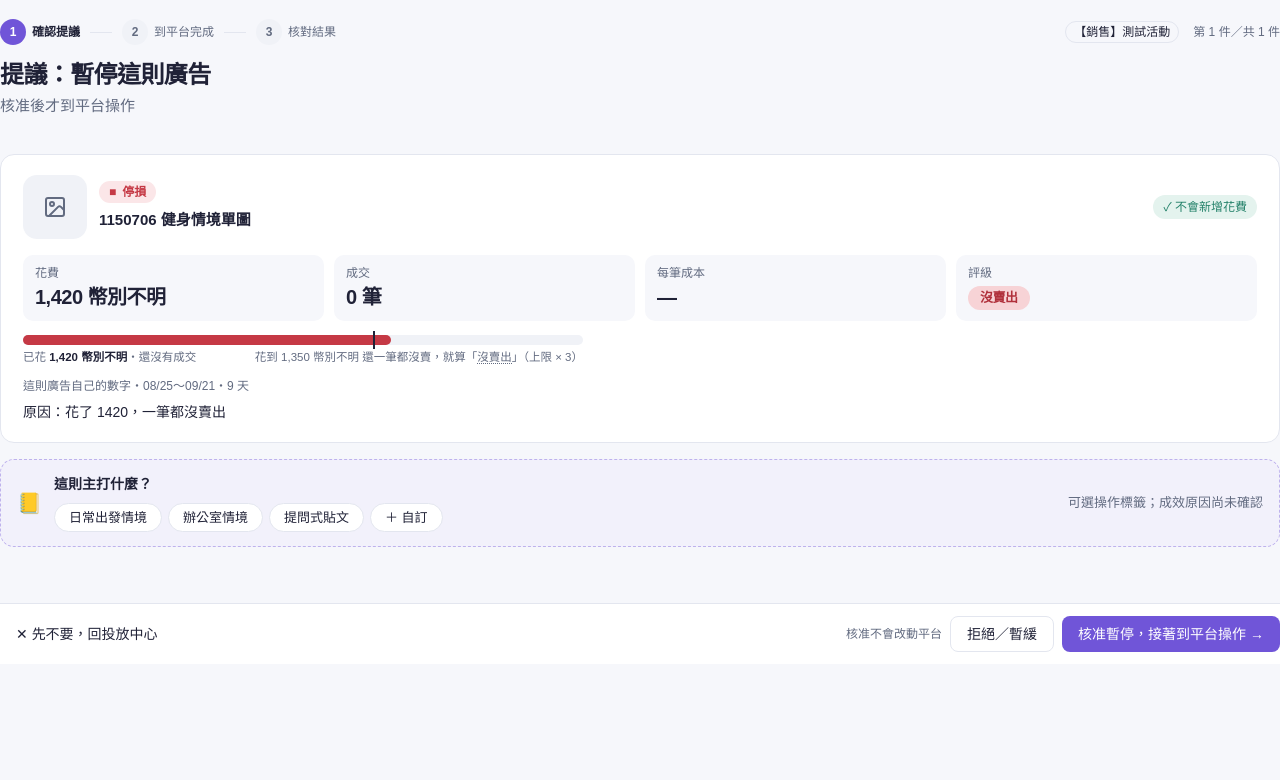
ConfirmPage（F22-I02）拒絕／暫緩 sheet › 暫緩要選一個之後的時間，過去的自訂日期不送出
Click the button "拒絕／暫緩".
click(1002, 634)  # box [950,616,1054,652]
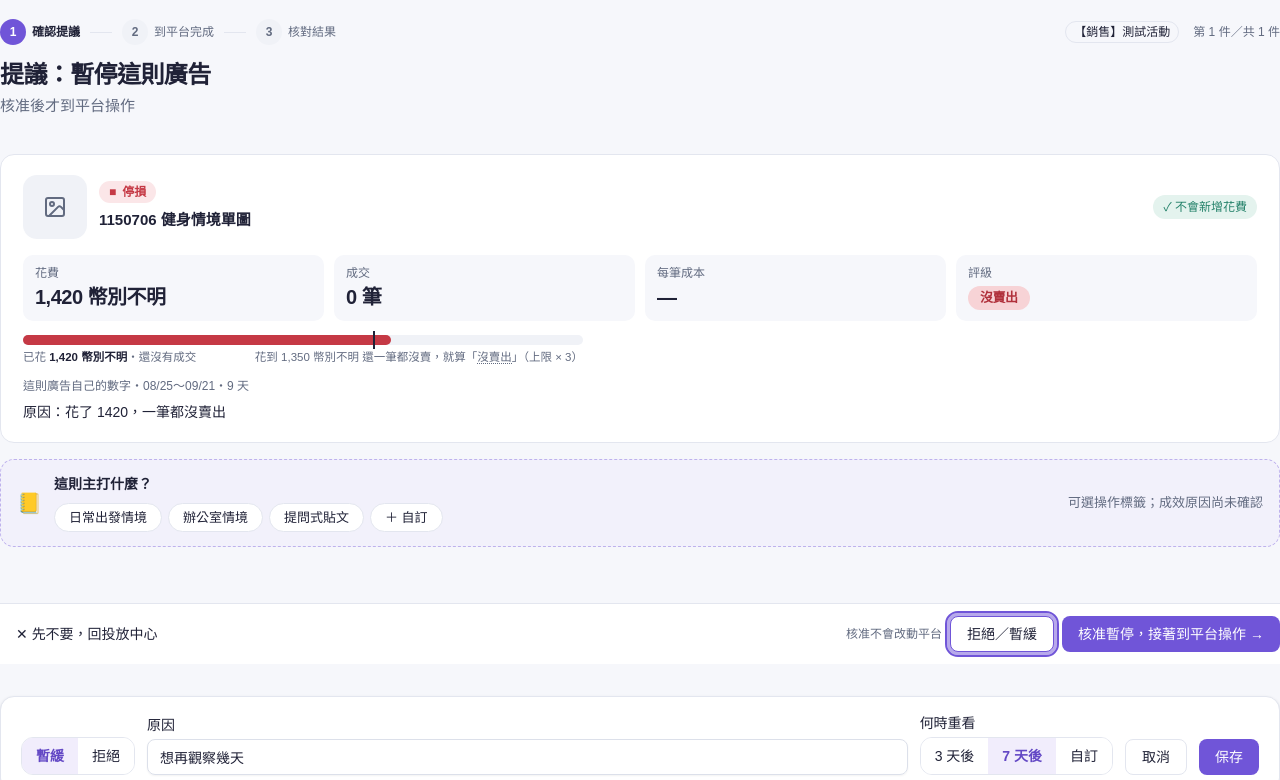
Click the button "自訂".
click(1084, 756)  # box [1056,738,1112,774]
(page scrolled)
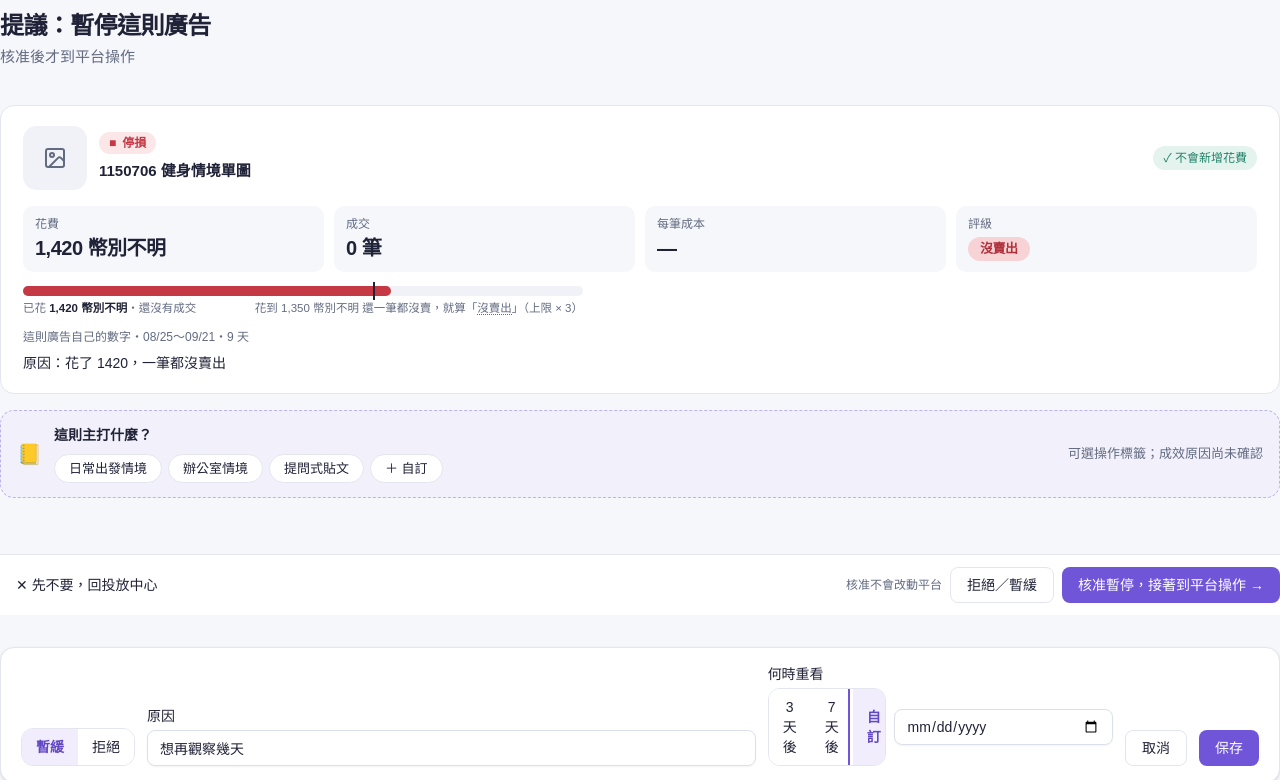
Type "2020-01-01" into the date field named "重看日期".
click(1003, 727); type("2020-01-01")  # box [894,709,1113,745]
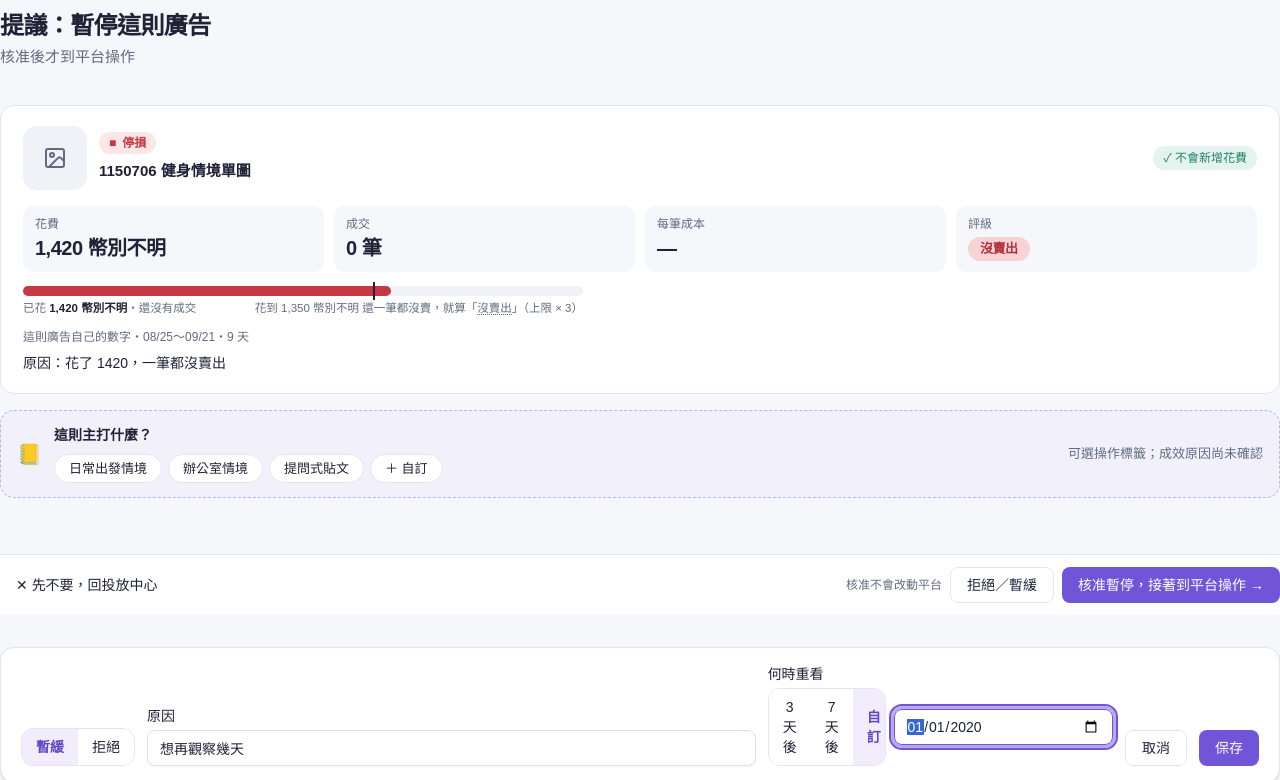
Click the button "保存".
click(1229, 748)  # box [1199,730,1259,766]
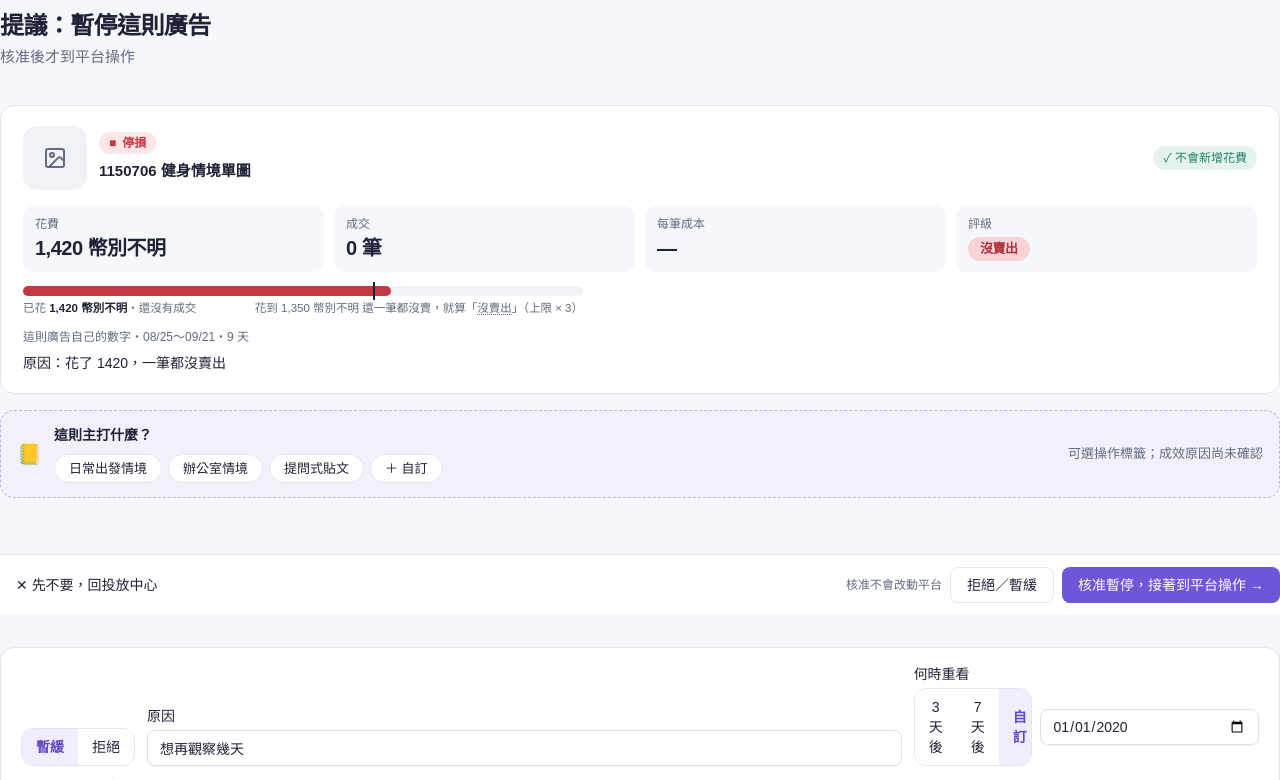
Type "2099-01-01" into the date field named "重看日期".
click(1149, 727); type("2099-01-01")  # box [1040,709,1259,745]
(page scrolled)
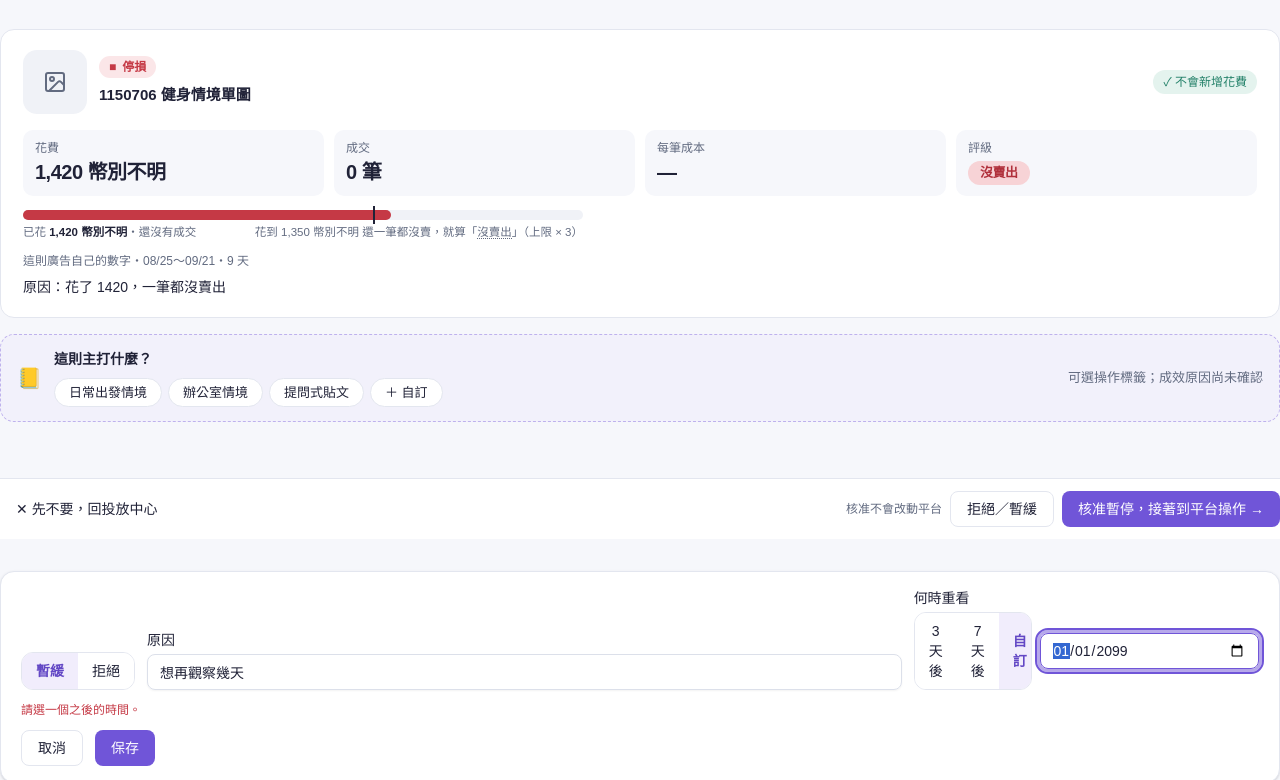
Click the button "保存".
click(125, 748)  # box [95,730,155,766]
(page scrolled)
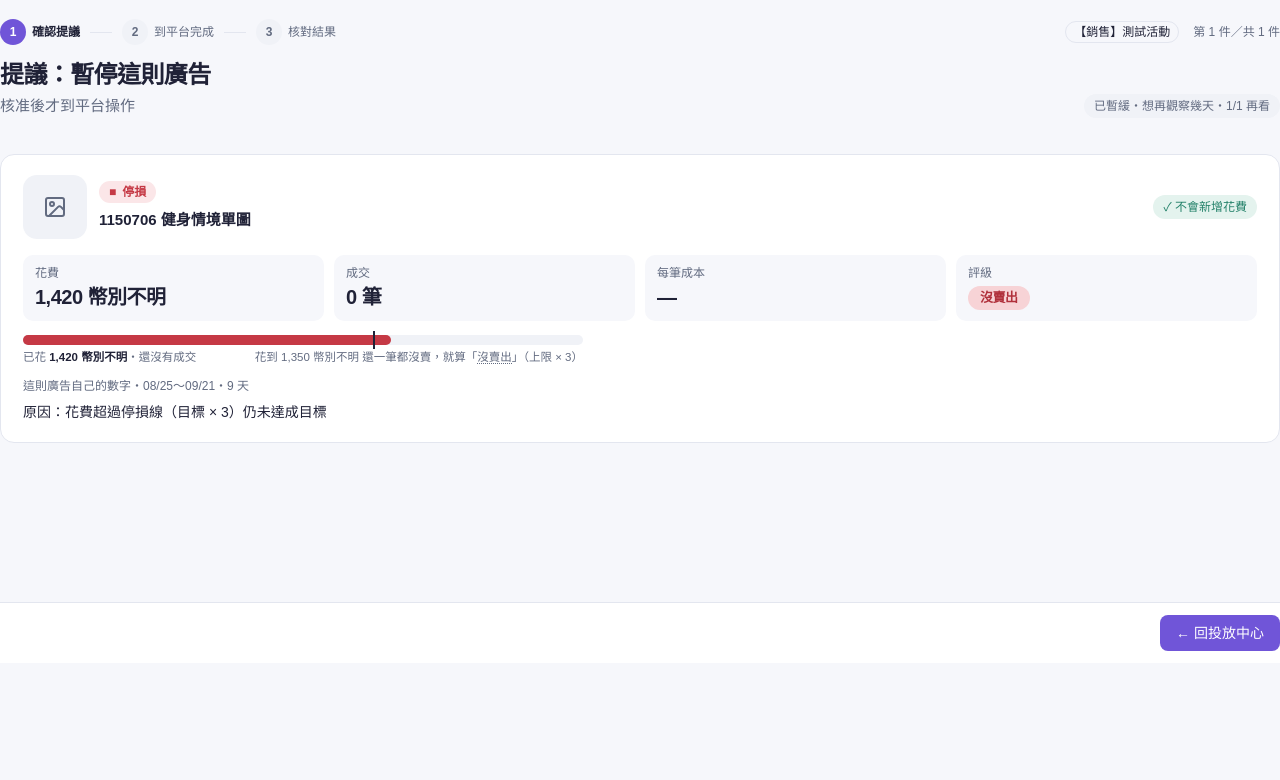
Expected: the text "已暫緩・想再觀察幾天・1/1 再看" is shown, [1084,94,1279,118]
